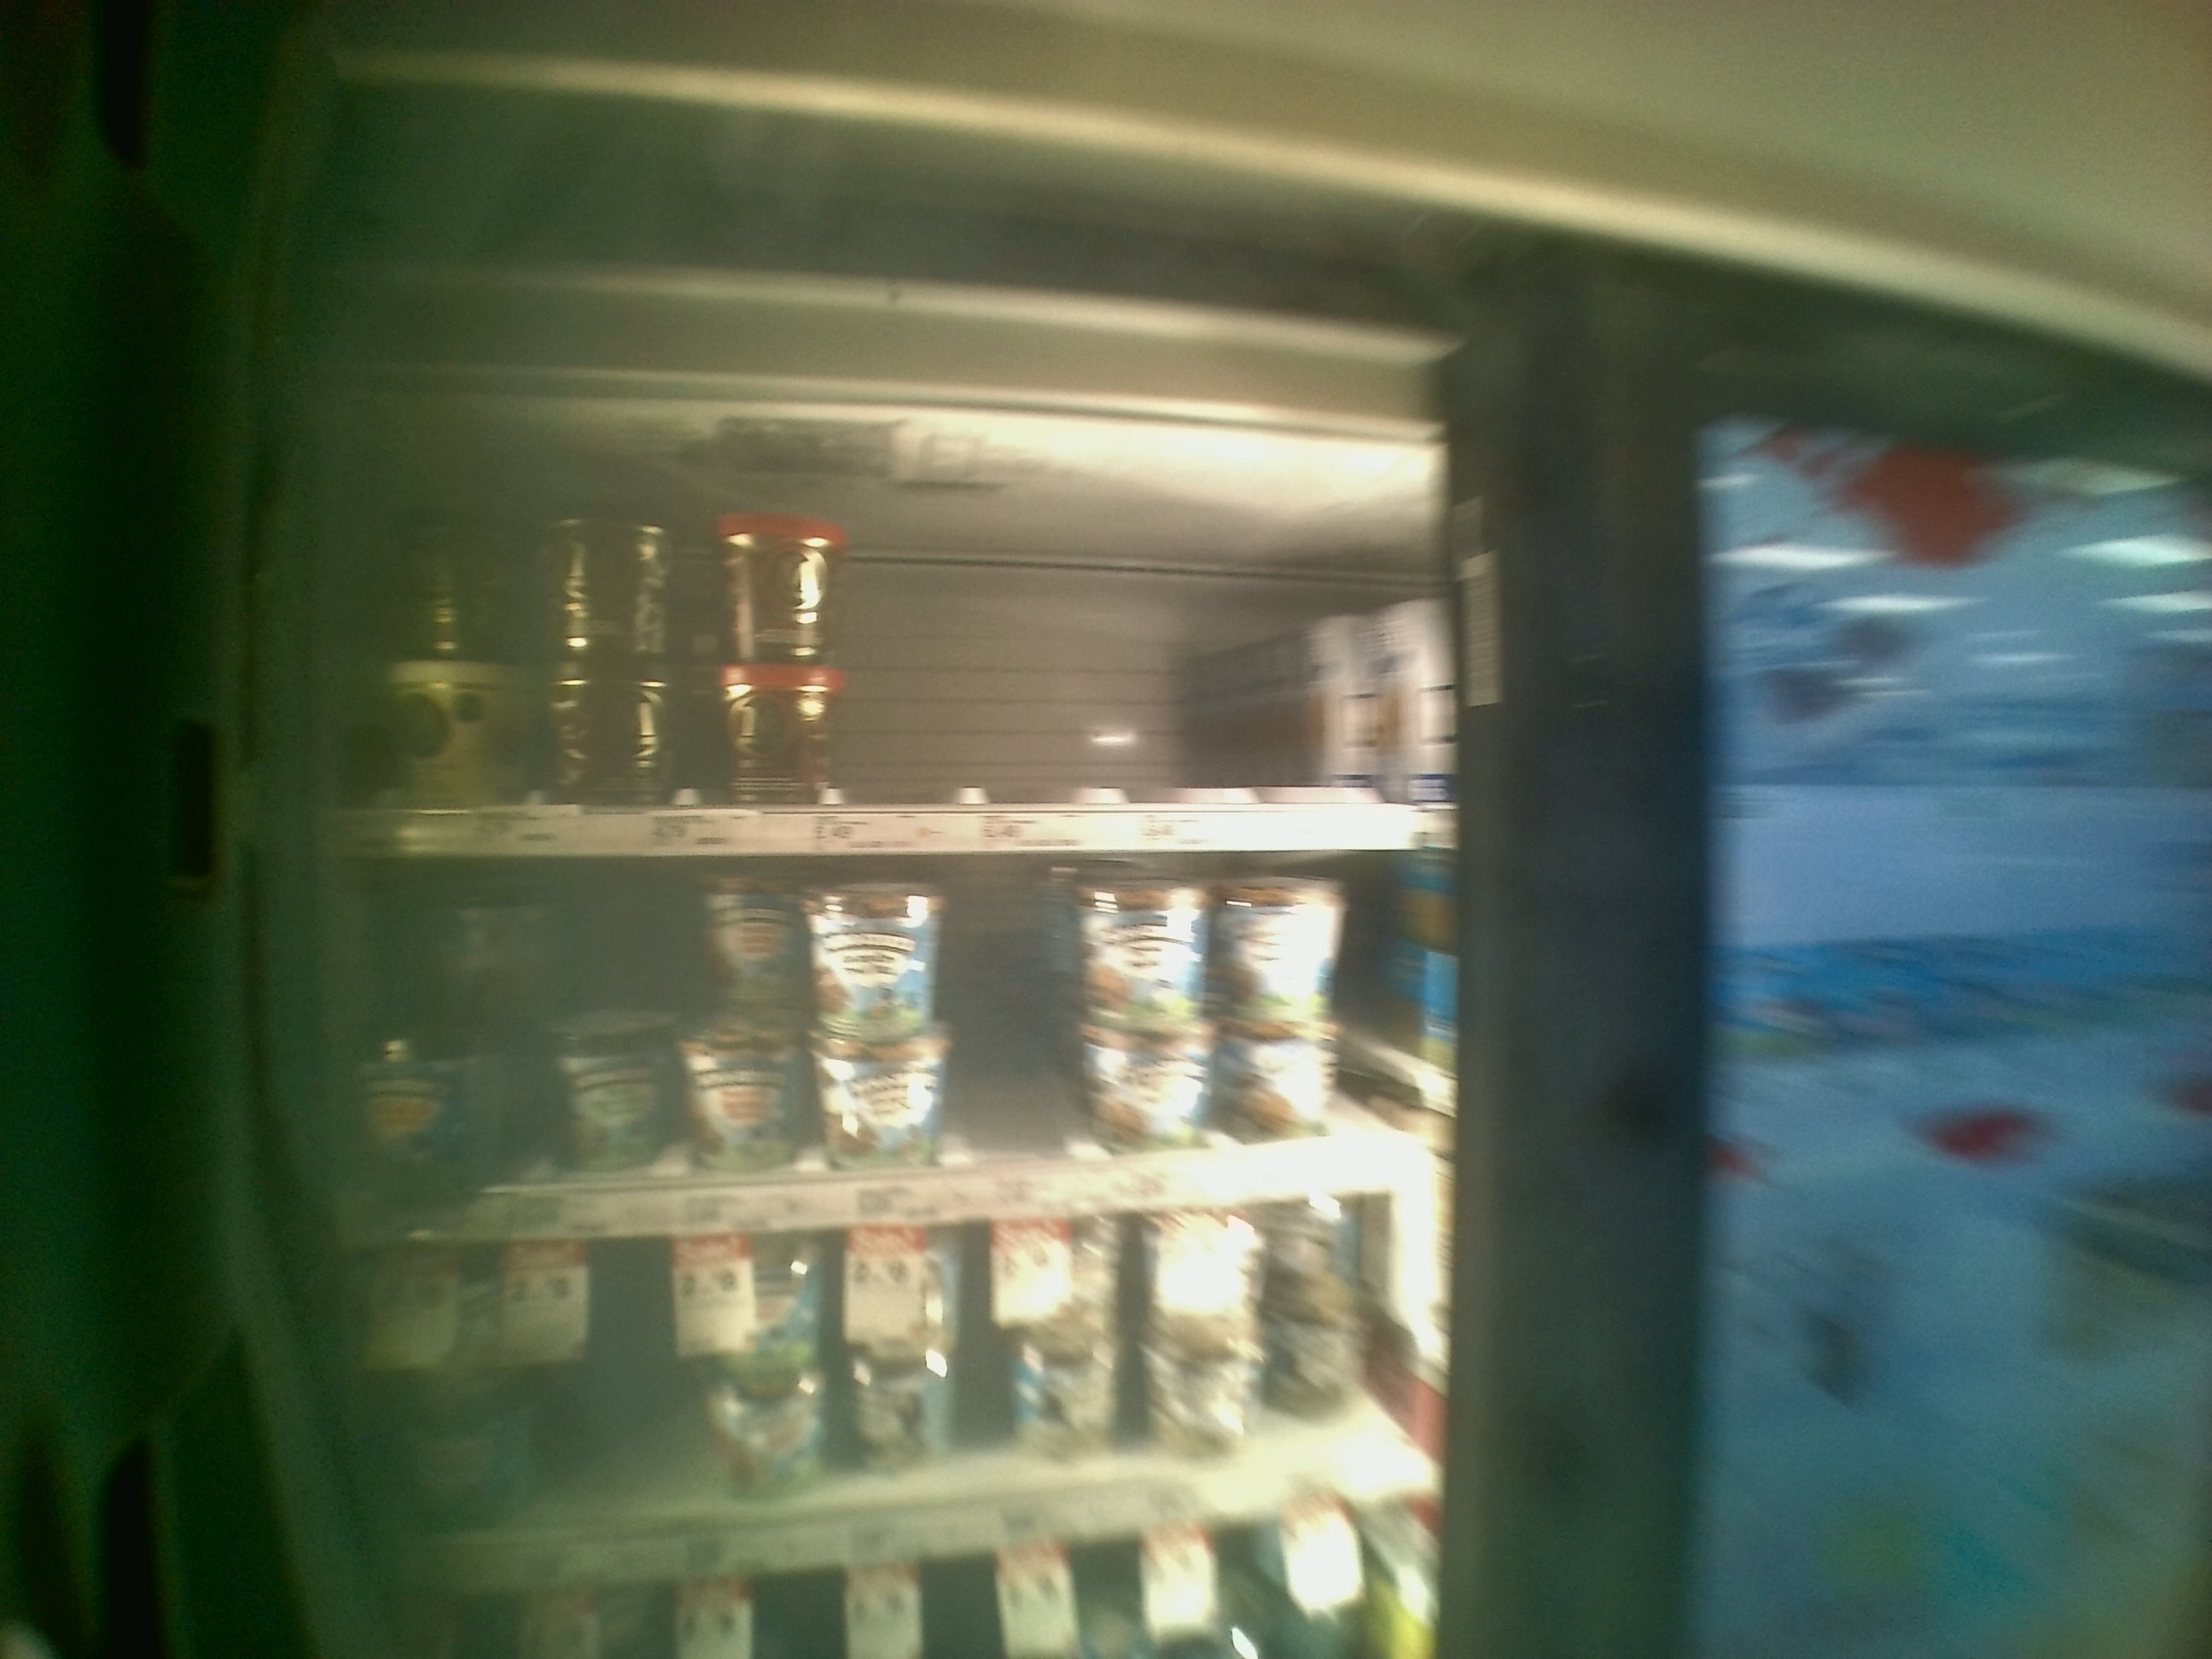shelf: (296, 441, 1458, 849), (301, 857, 1468, 1246)
